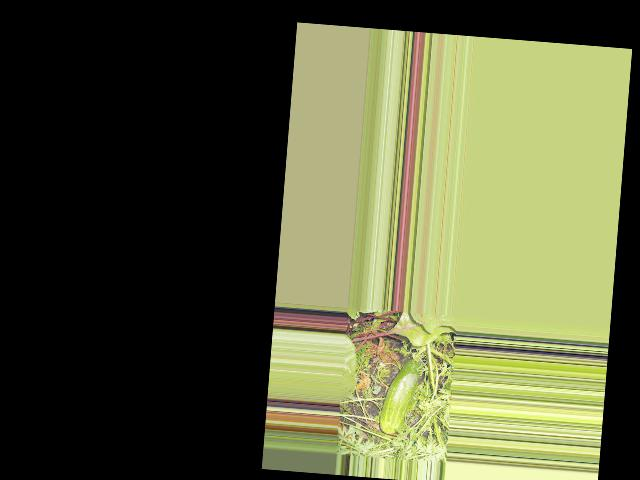cucumber: (379, 356, 422, 434)
